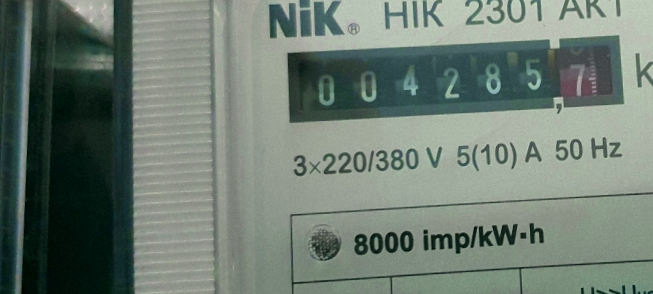0: (356, 66, 379, 103), (314, 70, 336, 106)
2: (440, 63, 461, 100)
4: (400, 61, 419, 96)
5: (521, 54, 543, 90)
7: (566, 60, 587, 97)
8: (480, 58, 503, 96)
screen: (270, 23, 639, 135)
